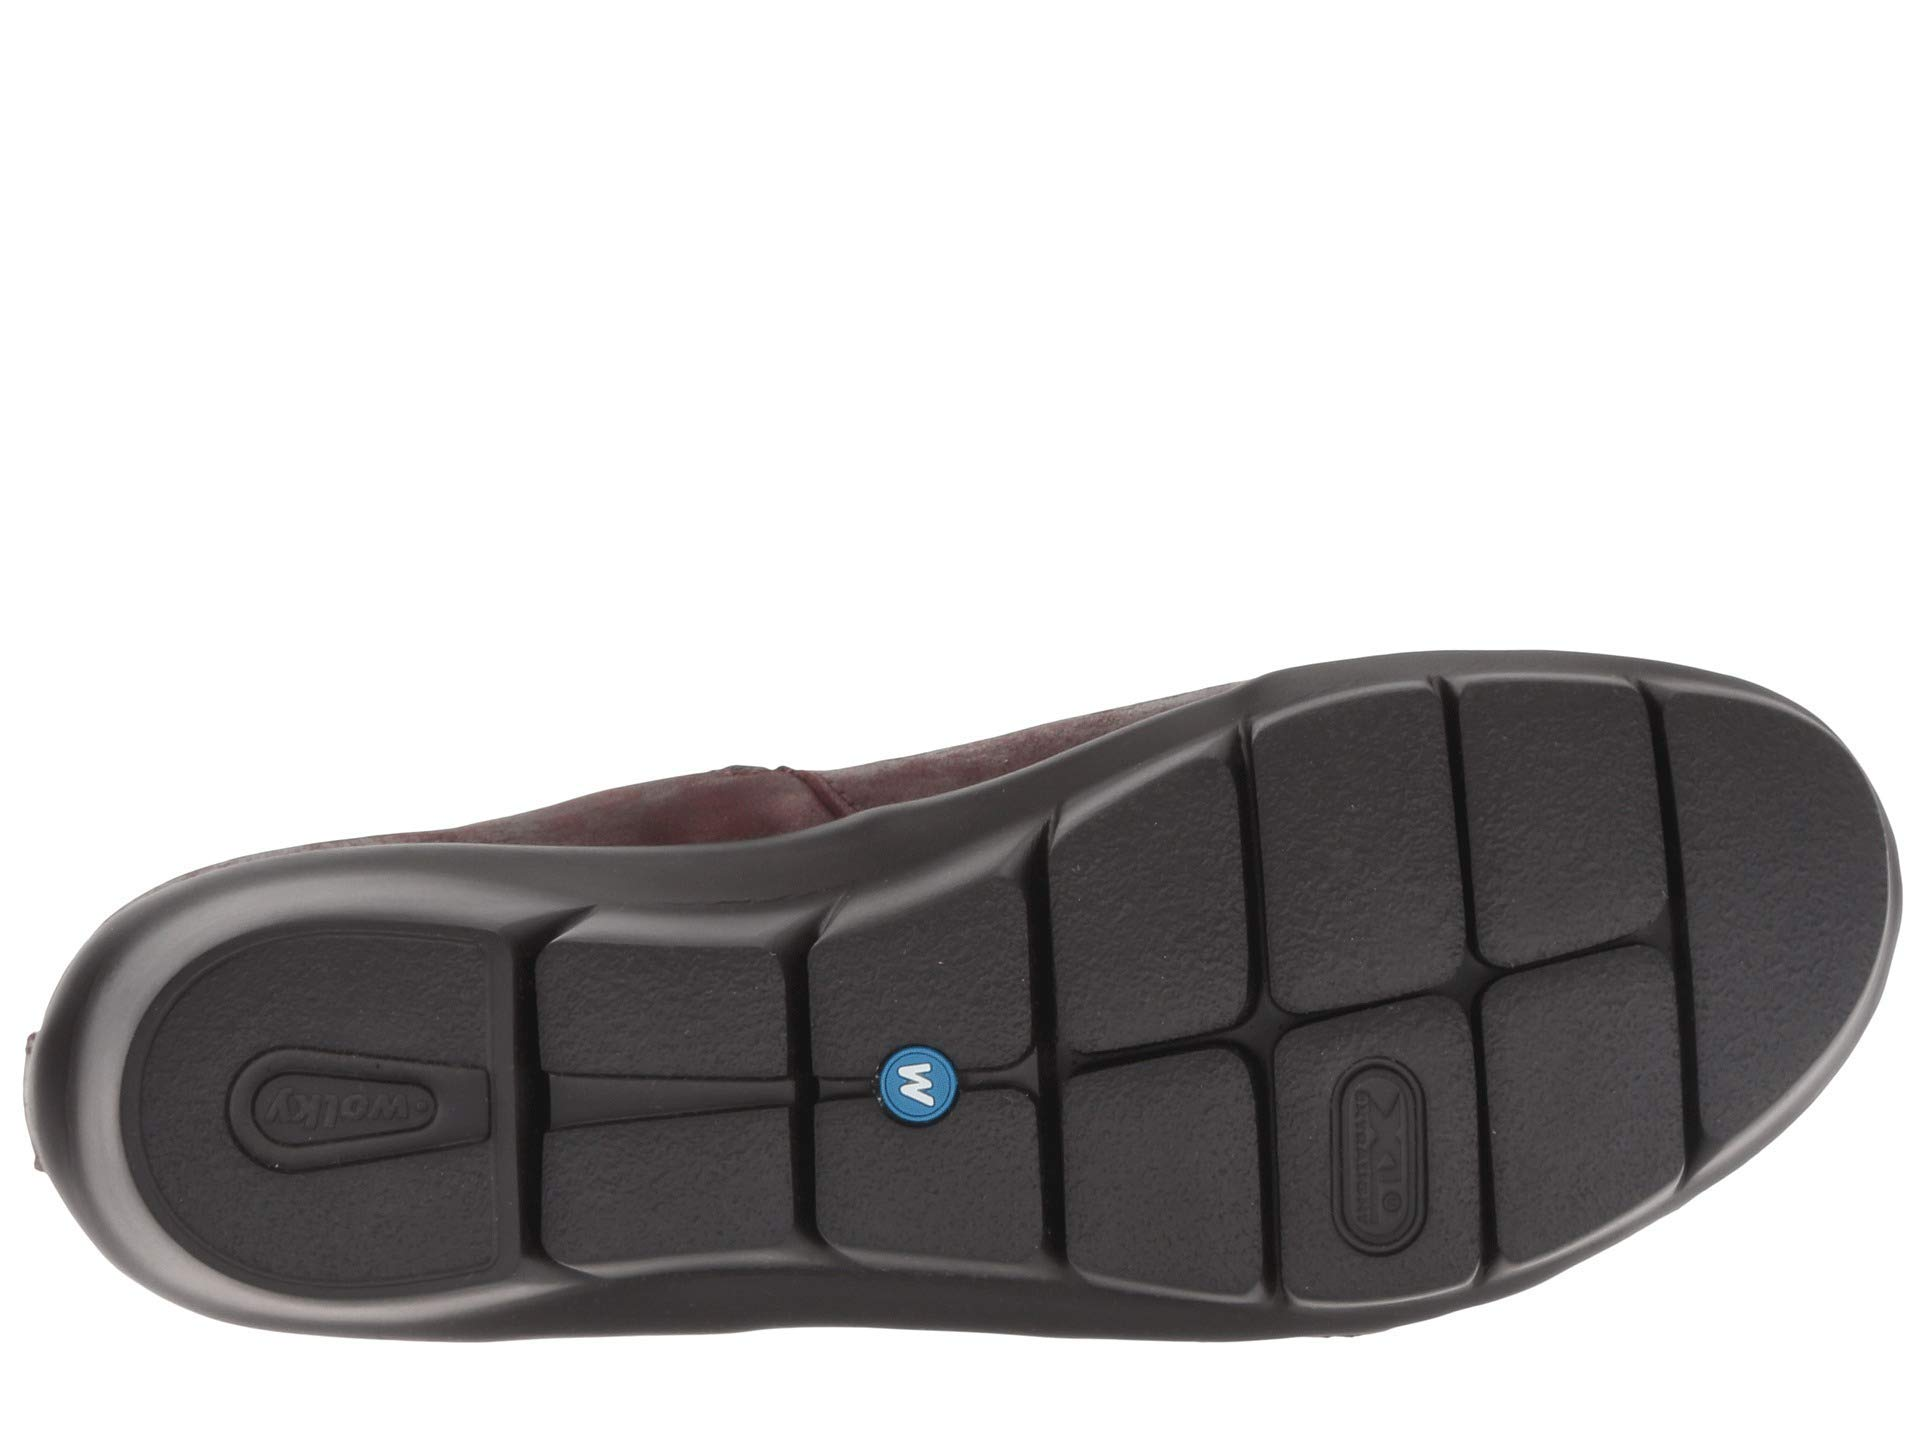circle: (1318, 1050, 1445, 1268), (251, 1062, 438, 1150), (860, 1036, 981, 1147)
quad: (522, 941, 822, 1271)
text: (1318, 1050, 1445, 1268), (251, 1062, 438, 1150), (860, 1036, 981, 1147)
